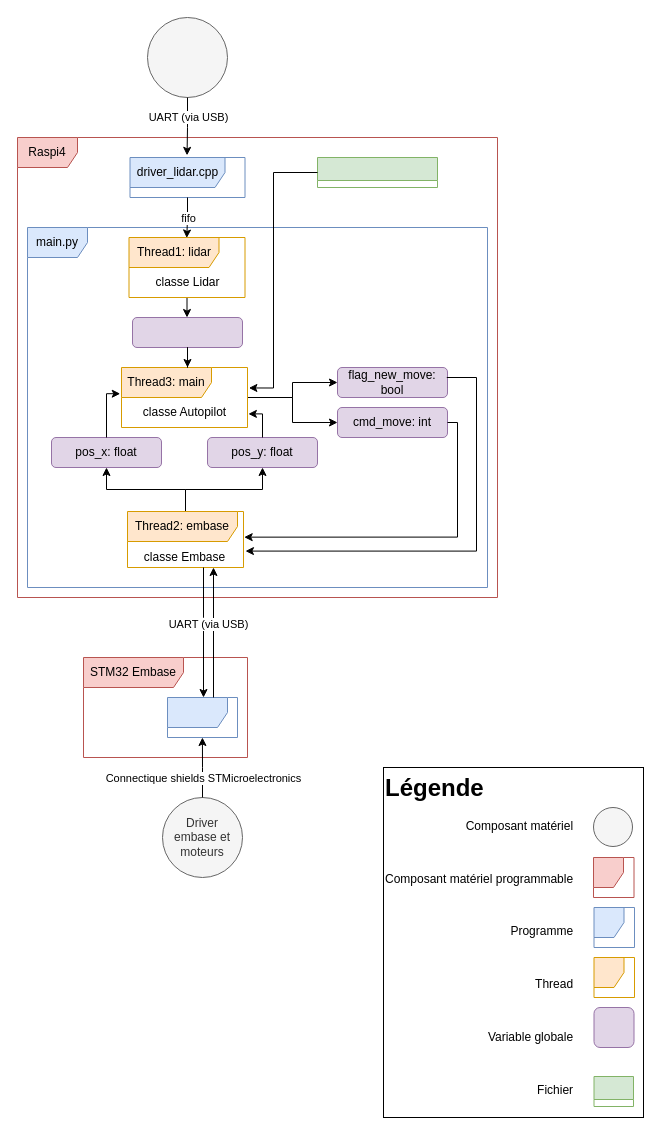
This 661x1138 diagram has some shape labels left out. Each missing label, with the centre of its shape:
"flag_obstacle: bool" goes at (x=187, y=332).
"LIDAR" goes at (x=187, y=57).
"main.cpp" goes at (x=202, y=717).
"trajectoire.txt" goes at (x=377, y=172).
